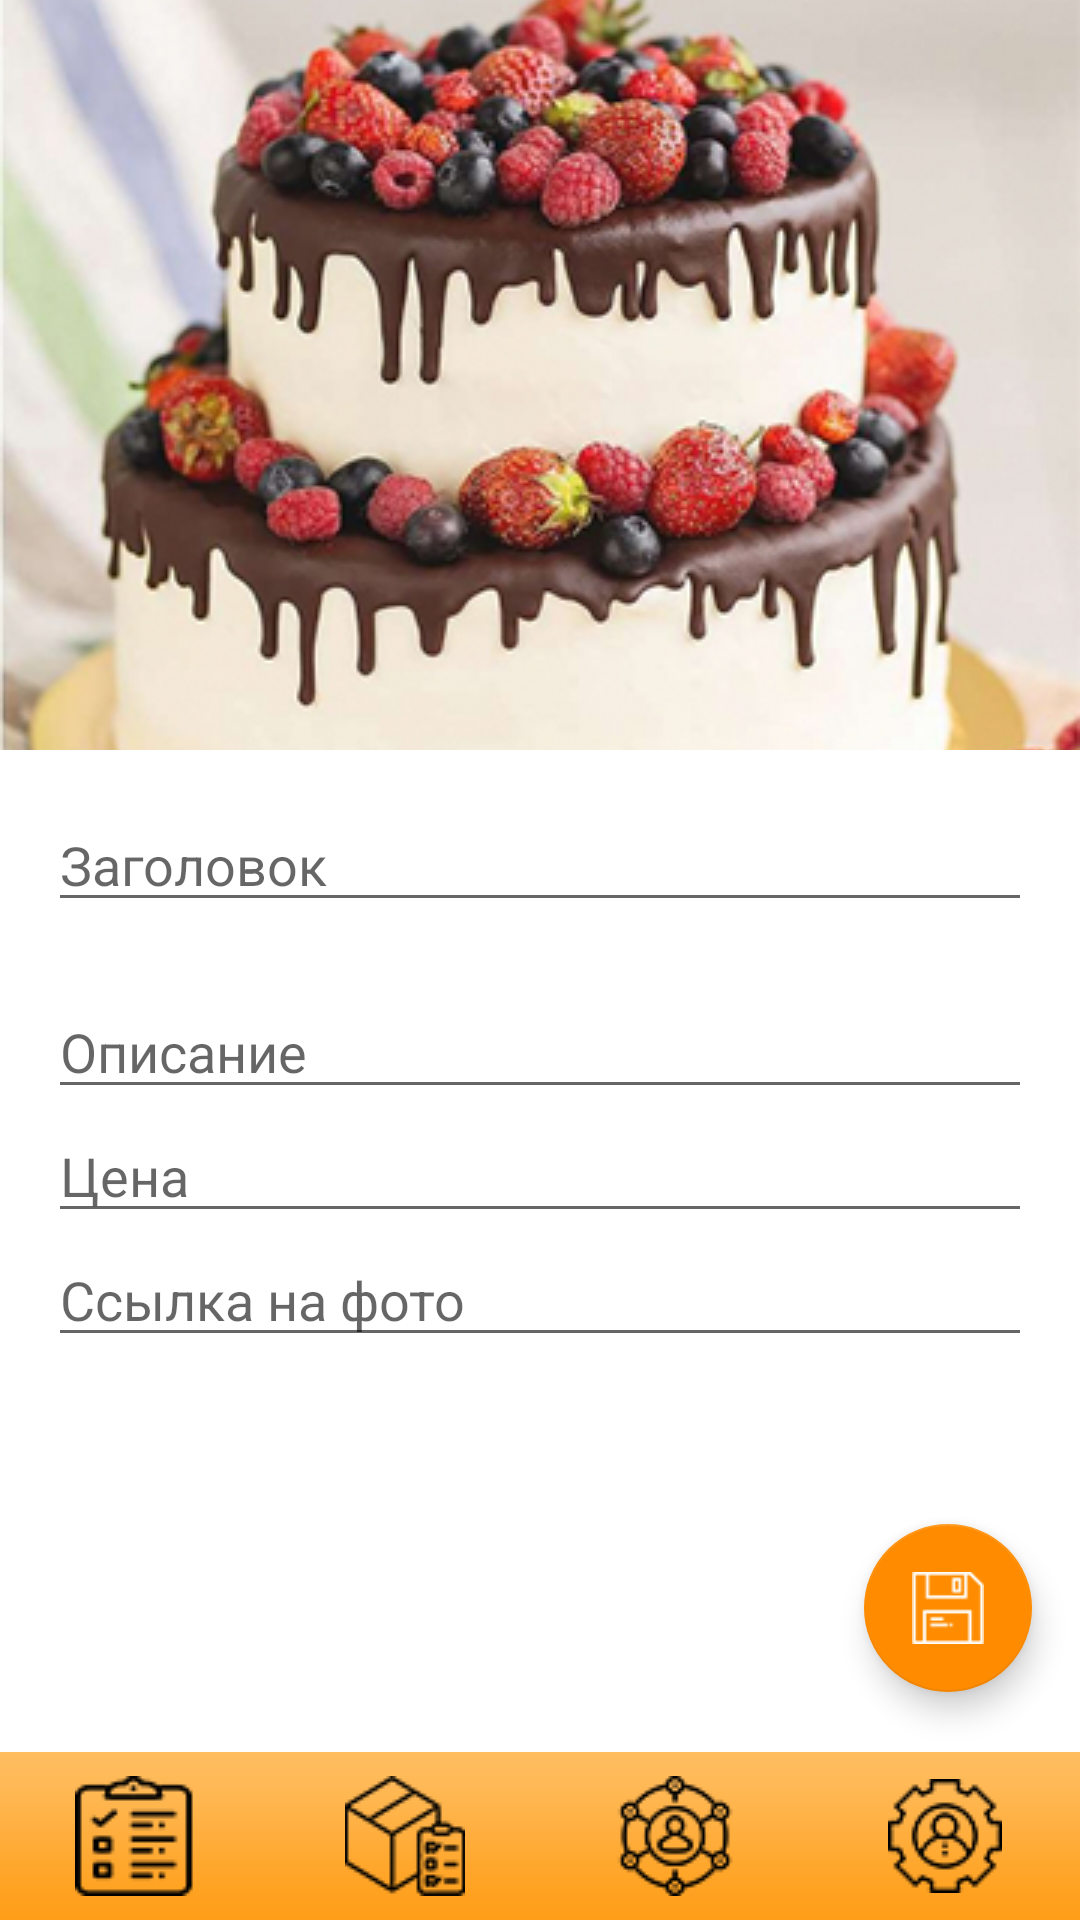

Screen size 1080 x 1920. Icon name, then its center in pixels as (x,y):
box: (405,1836)
list: (135,1836)
profile: (945,1836)
save: (948,1608)
social: (675,1836)
